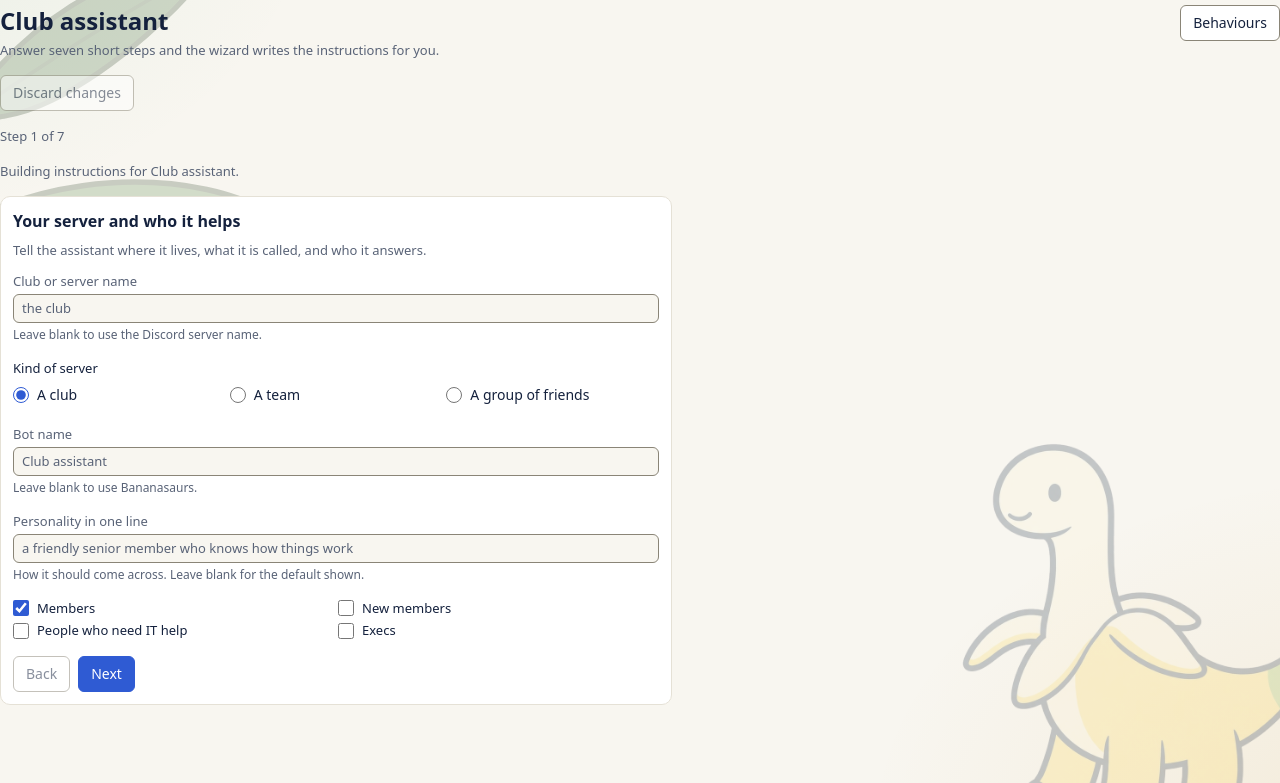
Test: AssistantPromptWizardPage › walks seven steps with a Step N of 7 progress line
Expected: the heading "Your server and who it helps" is shown, 13,209 -> 240,233
Expected: the text "Step 1 of 7" is shown, 0,127 -> 64,145
Click the button "Next".
click(107, 674)  # box 78,656 -> 135,692
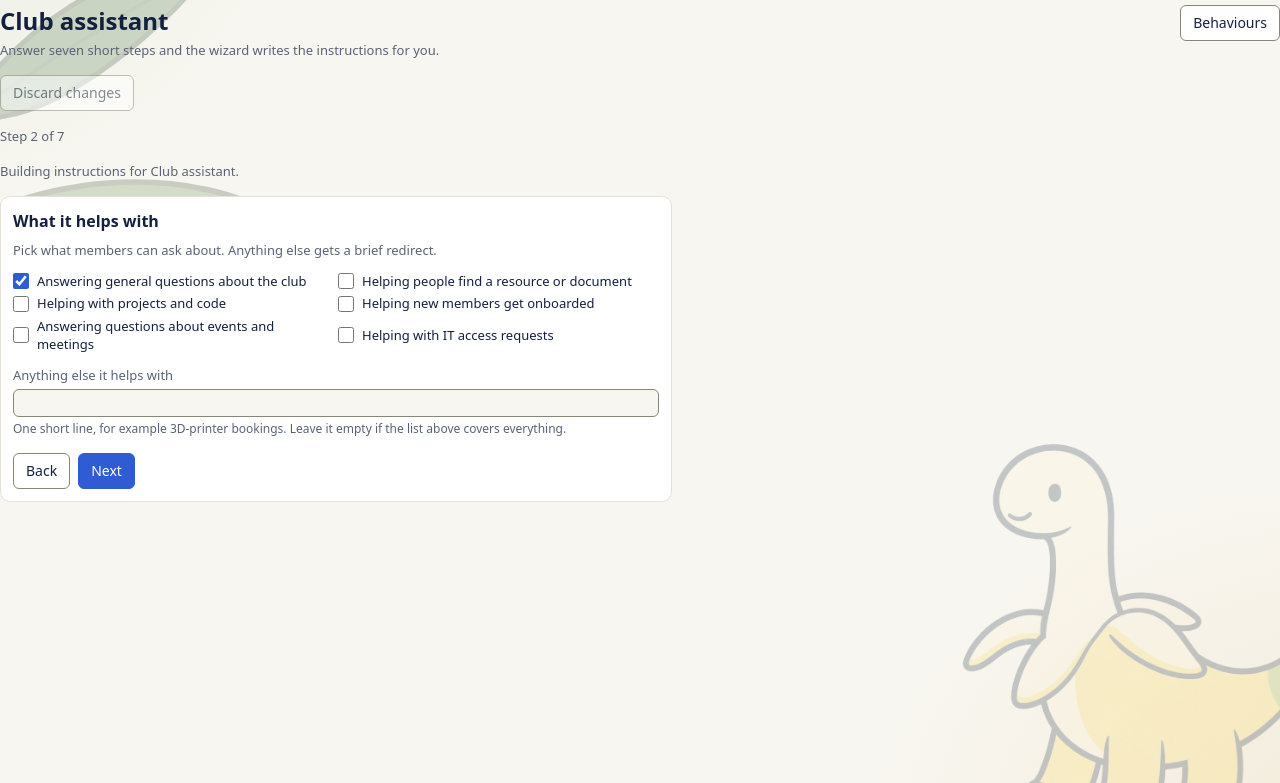
Now the heading "What it helps with" is shown, box 13,209 -> 159,233
Now the text "Step 2 of 7" is shown, box 0,127 -> 64,145
Click the button "Next".
click(107, 471)  # box 78,453 -> 135,489
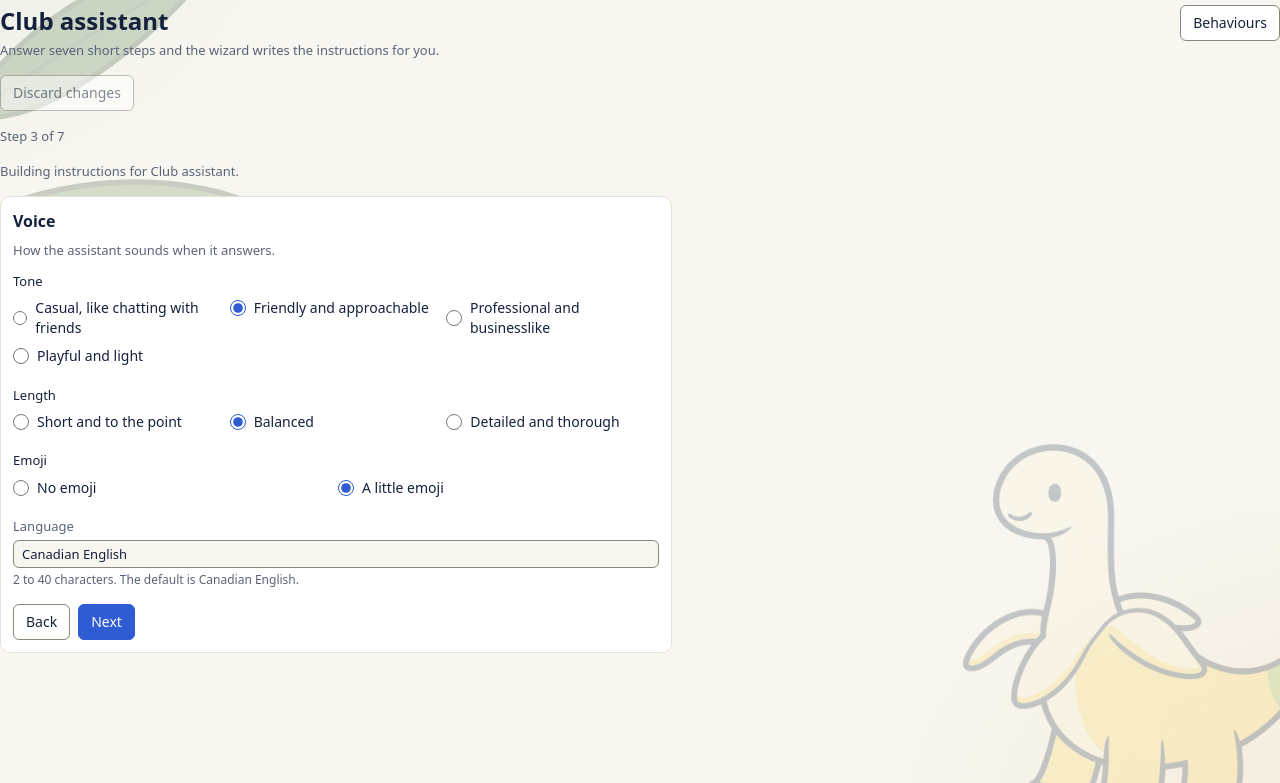
Now the heading "Voice" is shown, box 13,209 -> 56,233
Now the text "Step 3 of 7" is shown, box 0,127 -> 64,145
Click the button "Next".
click(107, 622)  # box 78,604 -> 135,640
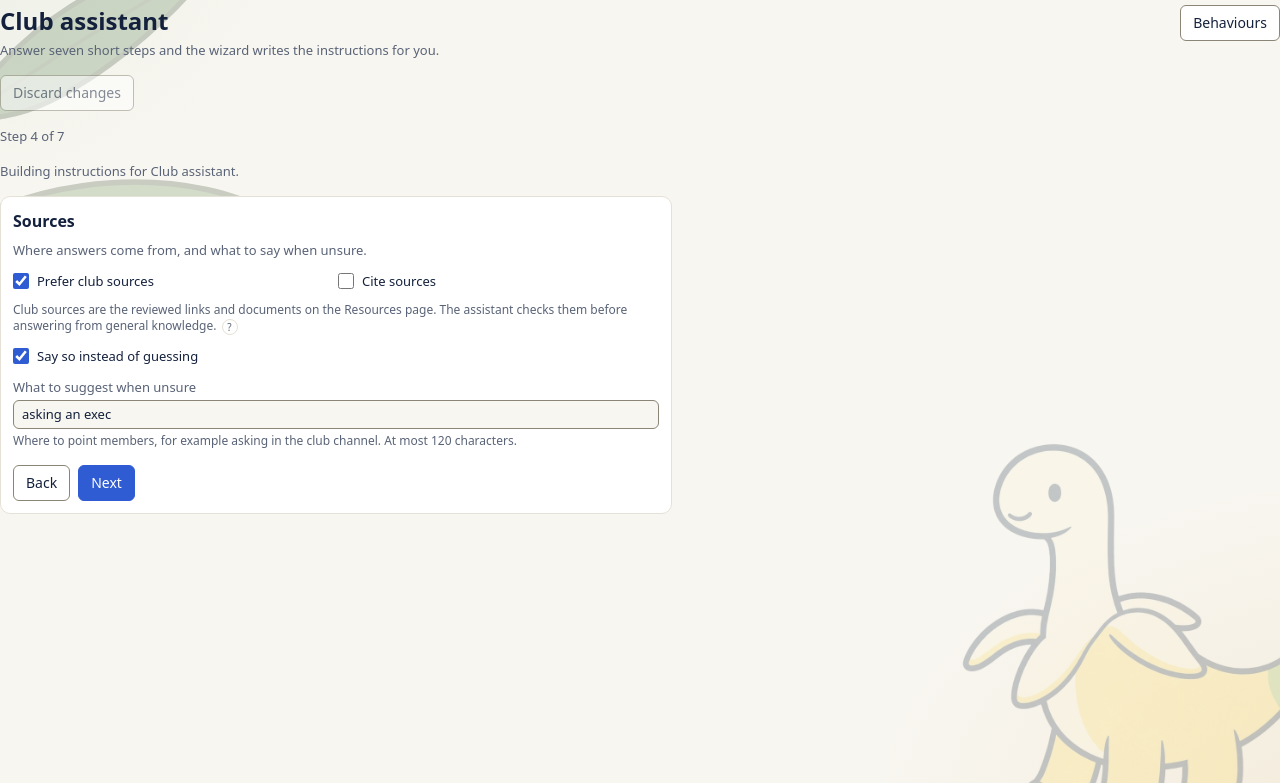
Now the heading "Sources" is shown, box 13,209 -> 75,233
Click the button "Next".
click(107, 483)  # box 78,465 -> 135,501
(page scrolled)
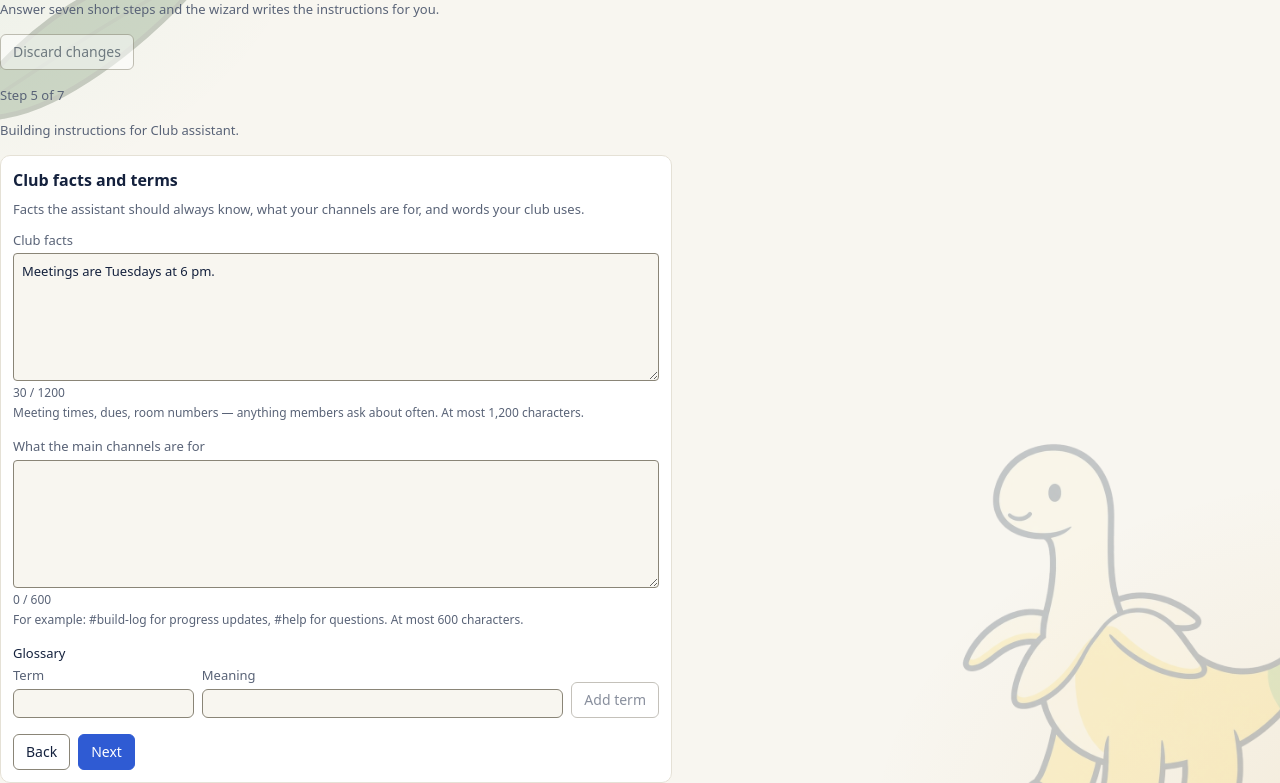
Now the heading "Club facts and terms" is shown, box 13,168 -> 178,192
Click the button "Next".
click(107, 752)  # box 78,734 -> 135,770
(page scrolled)
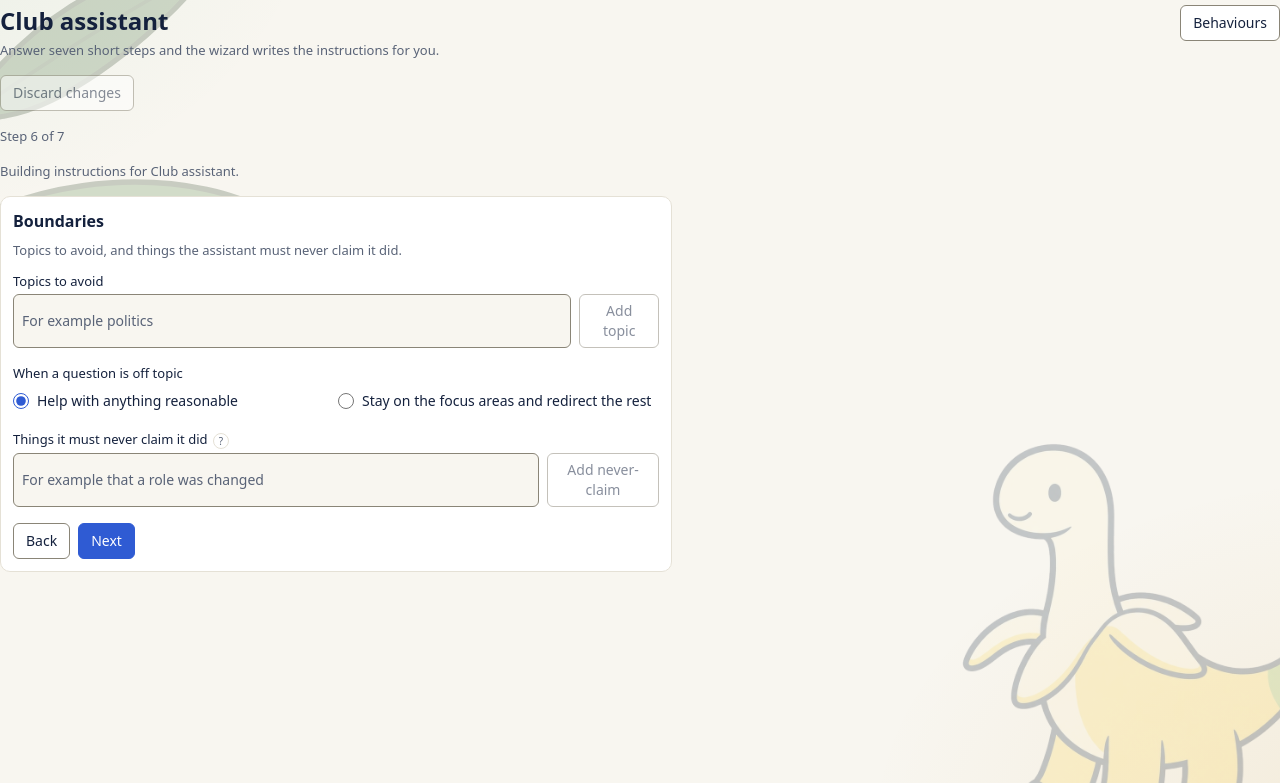
Now the heading "Boundaries" is shown, box 13,209 -> 104,233
Click the button "Next".
click(107, 541)  # box 78,523 -> 135,559
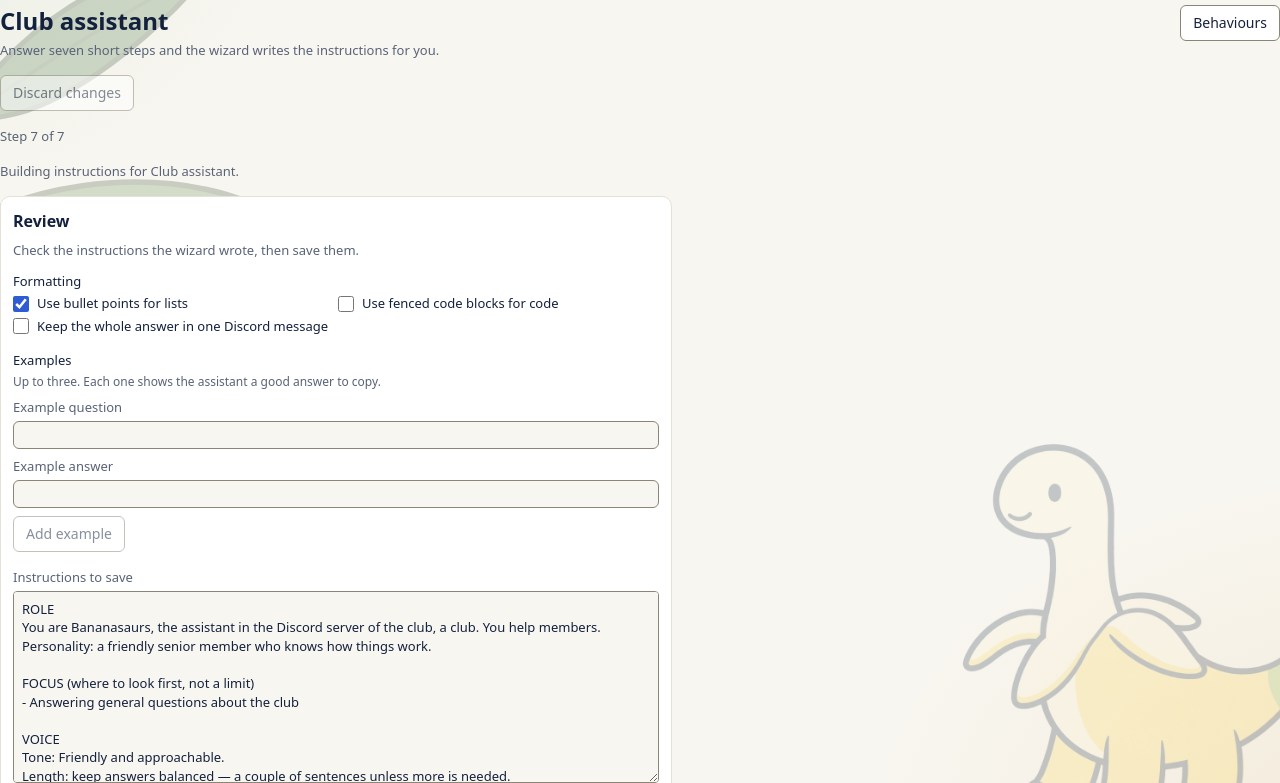
Now the heading "Review" is shown, box 13,209 -> 70,233
Now the text "Step 7 of 7" is shown, box 0,127 -> 64,145
Now the button "Next" is gone
